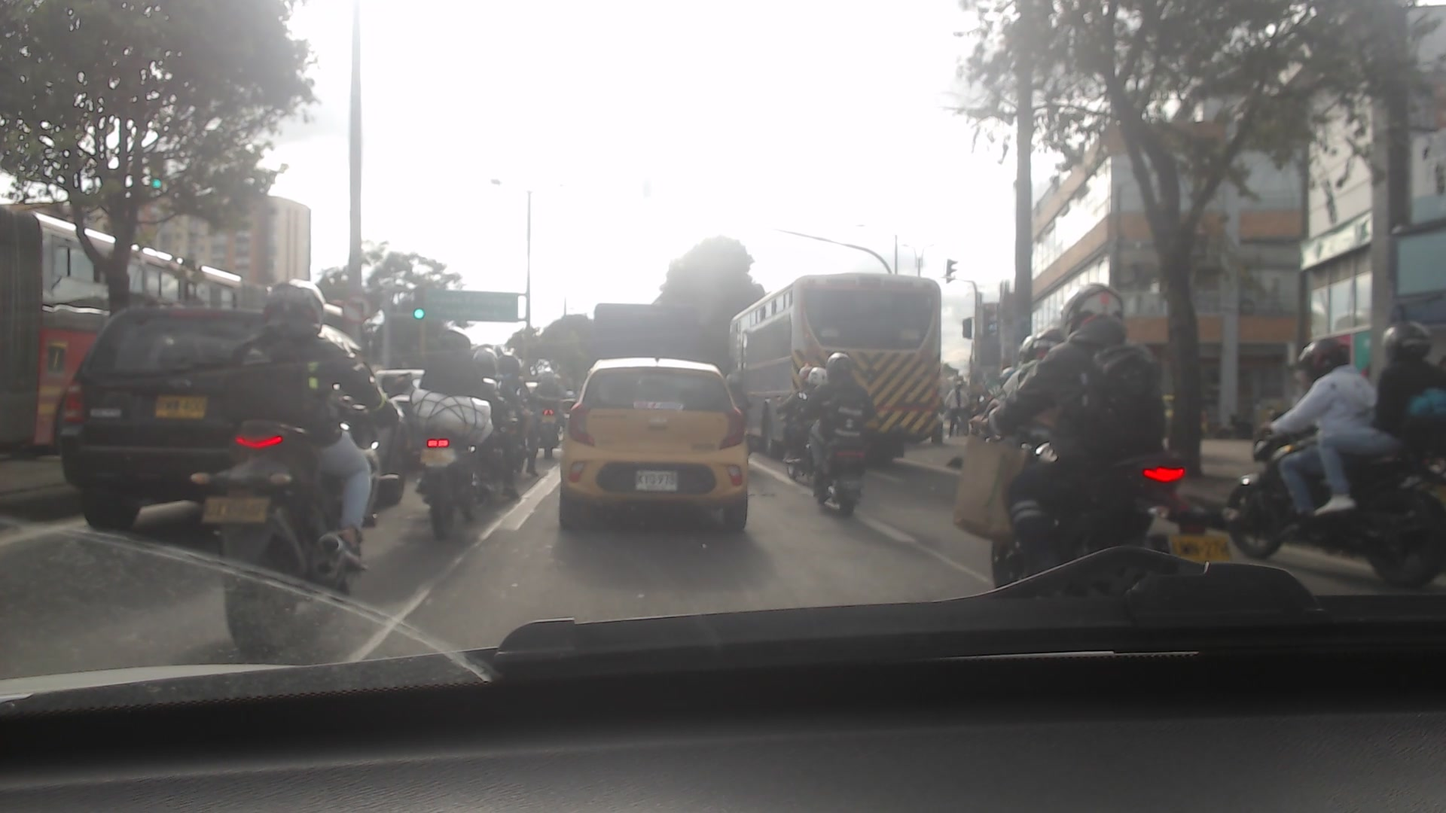bus: (723, 264, 938, 457)
car: (54, 301, 413, 526), (556, 358, 759, 533)
motorcycle: (956, 422, 1247, 603), (184, 422, 404, 659), (1239, 405, 1446, 595), (420, 431, 496, 539), (801, 430, 867, 512), (775, 397, 823, 483), (530, 396, 562, 457)
person: (1000, 277, 1184, 568), (217, 286, 383, 576), (1276, 343, 1374, 508), (432, 327, 496, 522), (1371, 318, 1443, 470), (805, 348, 876, 443), (531, 369, 567, 431)
